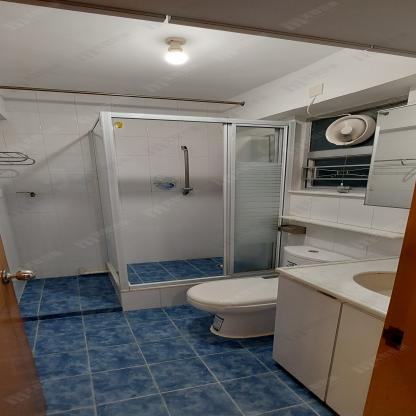Exhaust Fan: (319, 108, 377, 150)
Toilet: (186, 277, 277, 337), (282, 245, 358, 267)
Toilet Sink: (275, 256, 400, 319)
Water Cubicle: (87, 110, 296, 312)
